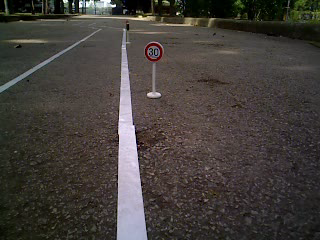limit 30: (144, 41, 166, 63)
